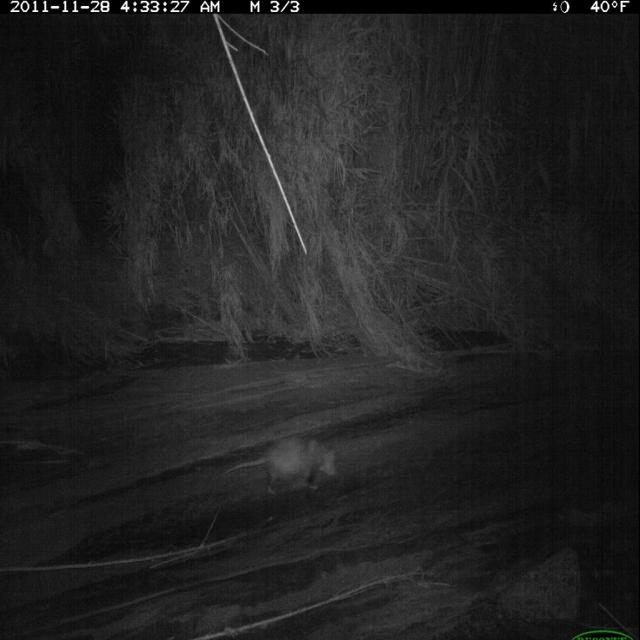opossum: (221, 430, 348, 500)
